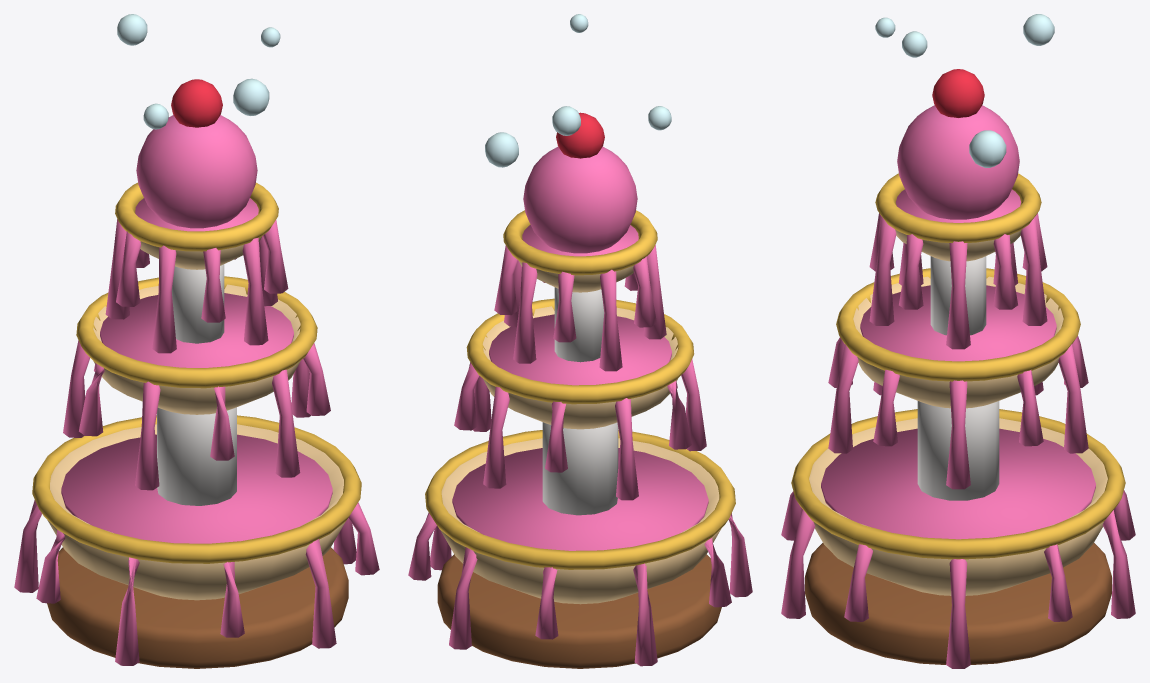
Rendered from candy_fountain.glb.
The picture shows the model from 3 angles, left to right: view 1: azimuth 30°, elevation 25°; view 2: azimuth 150°, elevation 25°; view 3: azimuth 270°, elevation 25°; orthographic projection. The views are drawn at different scales.
Visible parts, largest first — view 1: C_Fountain__C_gum_1, C_Fountain__C_gold_3, C_Fountain__C_choc_8, C_Fountain__C_van_5, C_Fountain__C_white_5, C_Fountain__C_aqua_0, C_Fountain__C_red_1; view 2: C_Fountain__C_gum_1, C_Fountain__C_gold_3, C_Fountain__C_choc_8, C_Fountain__C_van_5, C_Fountain__C_white_5, C_Fountain__C_aqua_0, C_Fountain__C_red_1; view 3: C_Fountain__C_gum_1, C_Fountain__C_gold_3, C_Fountain__C_choc_8, C_Fountain__C_van_5, C_Fountain__C_white_5, C_Fountain__C_aqua_0, C_Fountain__C_red_1.
Boxes of the visible parts, x1,y1,x2,y2 form: C_Fountain__C_gum_1: (14,115,379,665); C_Fountain__C_gold_3: (32,182,361,563); C_Fountain__C_choc_8: (47,547,348,668); C_Fountain__C_van_5: (47,236,345,600); C_Fountain__C_white_5: (157,264,236,505); C_Fountain__C_aqua_0: (117,14,280,129); C_Fountain__C_red_1: (171,79,222,127); C_Fountain__C_gum_1: (408,146,752,666); C_Fountain__C_gold_3: (425,210,735,569); C_Fountain__C_choc_8: (437,554,721,668); C_Fountain__C_van_5: (440,261,721,604); C_Fountain__C_white_5: (542,287,618,515); C_Fountain__C_aqua_0: (485,14,671,167); C_Fountain__C_red_1: (556,112,604,158); C_Fountain__C_gum_1: (781,105,1135,668); C_Fountain__C_gold_3: (791,173,1125,559); C_Fountain__C_choc_8: (805,543,1111,664); C_Fountain__C_van_5: (809,229,1107,595); C_Fountain__C_white_5: (917,256,999,500); C_Fountain__C_aqua_0: (875,14,1054,167); C_Fountain__C_red_1: (932,69,984,117).
Bounding box in the file's own units: 2.52 × 4.57 × 2.43.
